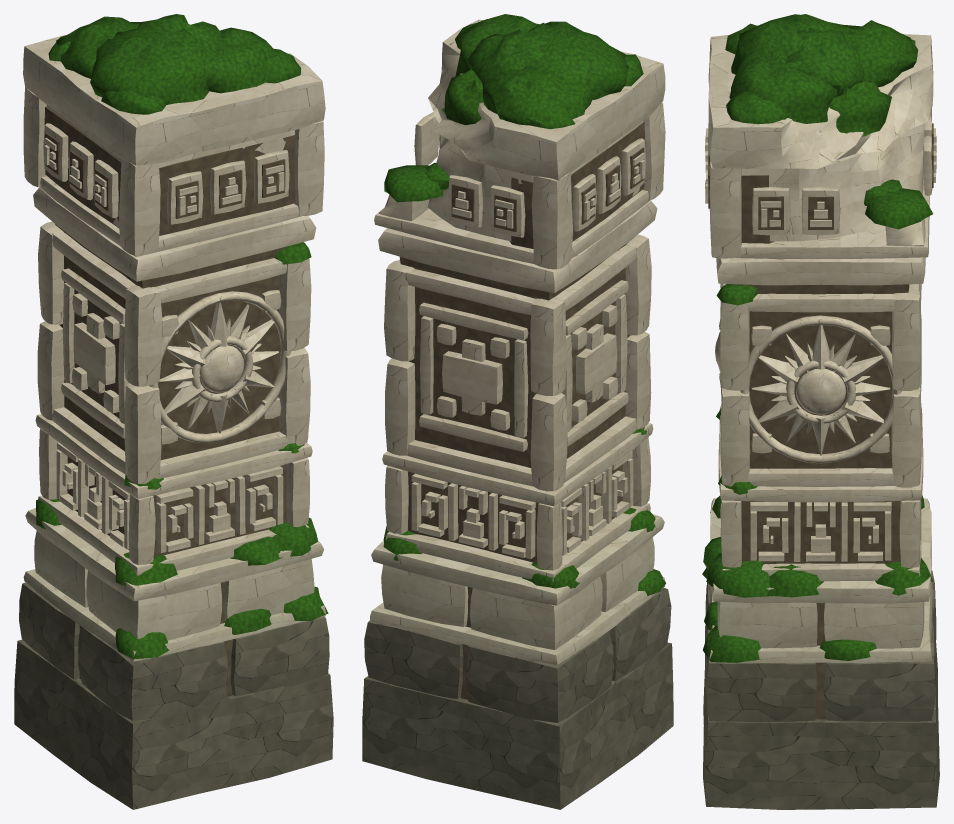
The picture shows the model from 3 angles, left to right: view 1: azimuth 30°, elevation 25°; view 2: azimuth 150°, elevation 25°; view 3: azimuth 270°, elevation 25°; orthographic projection. The views are drawn at different scales.
Parts seen in each view (by area): view 1: Mesh_SteleLimestone, Mesh_SteleDampPlinth, Mesh_SteleMossCushions, Mesh_SteleCarvedGrout; view 2: Mesh_SteleLimestone, Mesh_SteleDampPlinth, Mesh_SteleMossCushions, Mesh_SteleCarvedGrout; view 3: Mesh_SteleLimestone, Mesh_SteleDampPlinth, Mesh_SteleMossCushions, Mesh_SteleCarvedGrout.
Part boxes in pixels (bbox=[...]): Mesh_SteleLimestone: bbox=[23, 34, 325, 661]; Mesh_SteleDampPlinth: bbox=[14, 582, 333, 809]; Mesh_SteleMossCushions: bbox=[36, 14, 328, 659]; Mesh_SteleCarvedGrout: bbox=[44, 106, 295, 696]; Mesh_SteleLimestone: bbox=[370, 19, 665, 664]; Mesh_SteleDampPlinth: bbox=[362, 588, 673, 809]; Mesh_SteleMossCushions: bbox=[383, 14, 665, 595]; Mesh_SteleCarvedGrout: bbox=[399, 122, 645, 699]; Mesh_SteleLimestone: bbox=[705, 34, 936, 662]; Mesh_SteleDampPlinth: bbox=[703, 570, 939, 809]; Mesh_SteleMossCushions: bbox=[702, 14, 932, 662]; Mesh_SteleCarvedGrout: bbox=[708, 123, 933, 719].
Size of the model in its own units: 1.29 by 4.35 by 1.29.
Materials: 4 (4 with a texture image).
